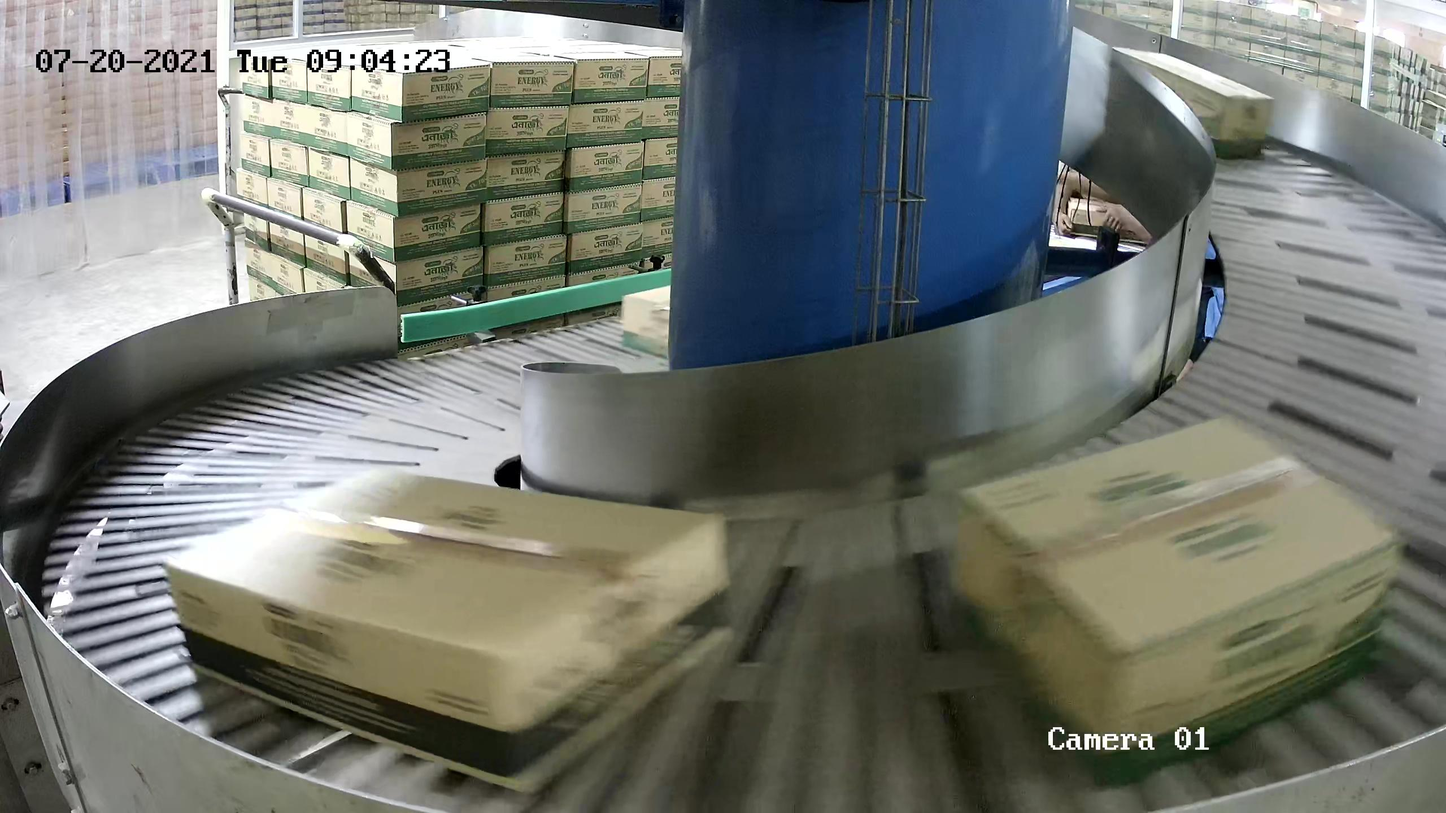Box: (160, 464, 738, 795), (935, 412, 1402, 782), (1100, 43, 1276, 159)
